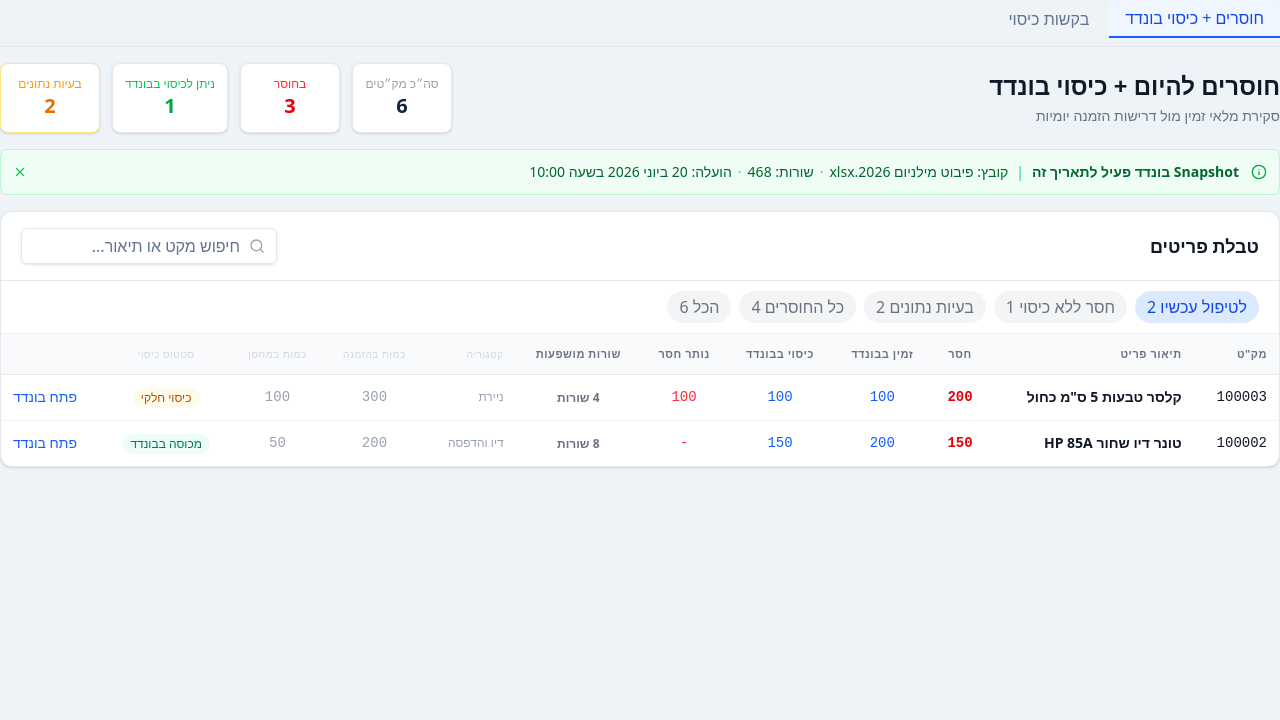
Test case: ProductControlTab › opens drawer when clicking a normal product row
Click the text "100002" at x=1236, y=443, box [1194,420,1279,466]
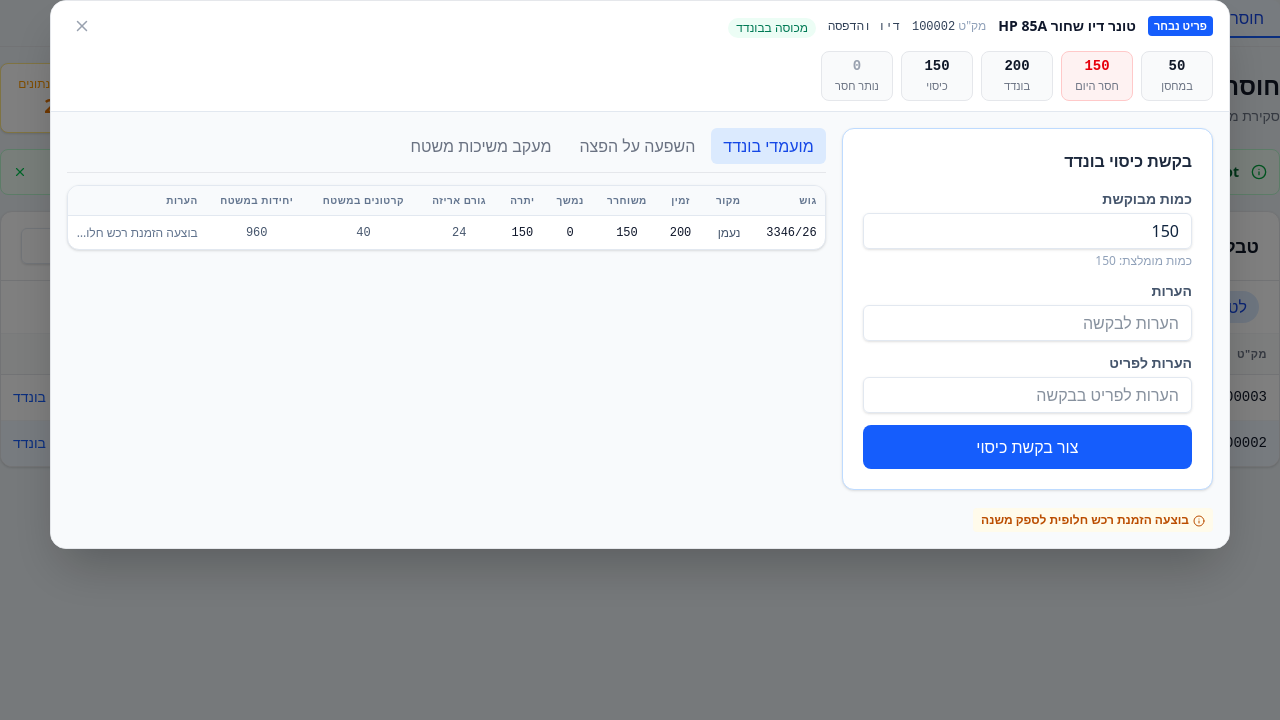
Expected: the text "פריט נבחר" is shown, [1148,16,1213,36]
